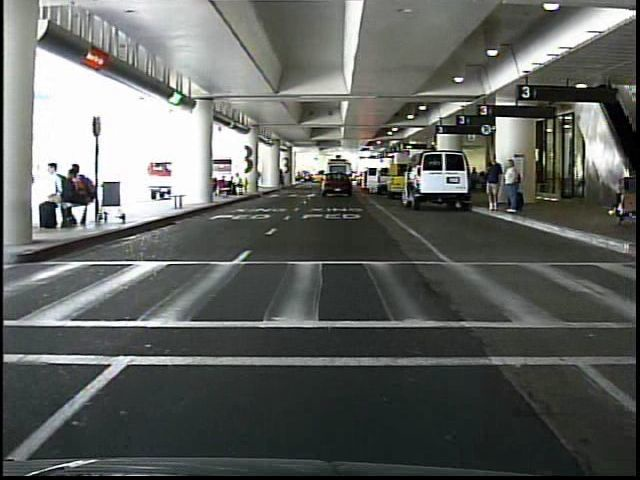person: (482, 151, 503, 217), (502, 156, 523, 220), (323, 170, 334, 194)
